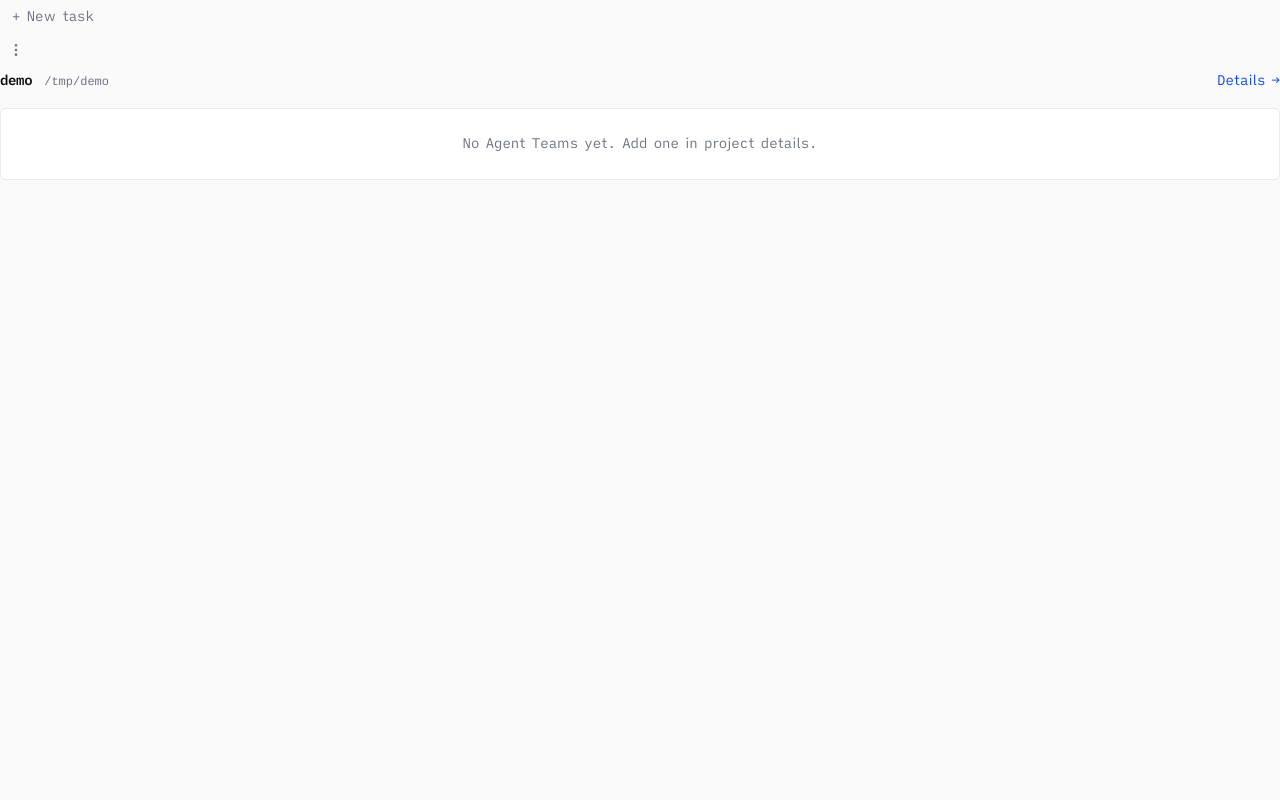
Dashboard layout › opens the kebab menu on click and exposes a "New project" menuitem that opens the CreateProject modal
Click the button named "More actions": [16, 50] box [0,34,32,66]
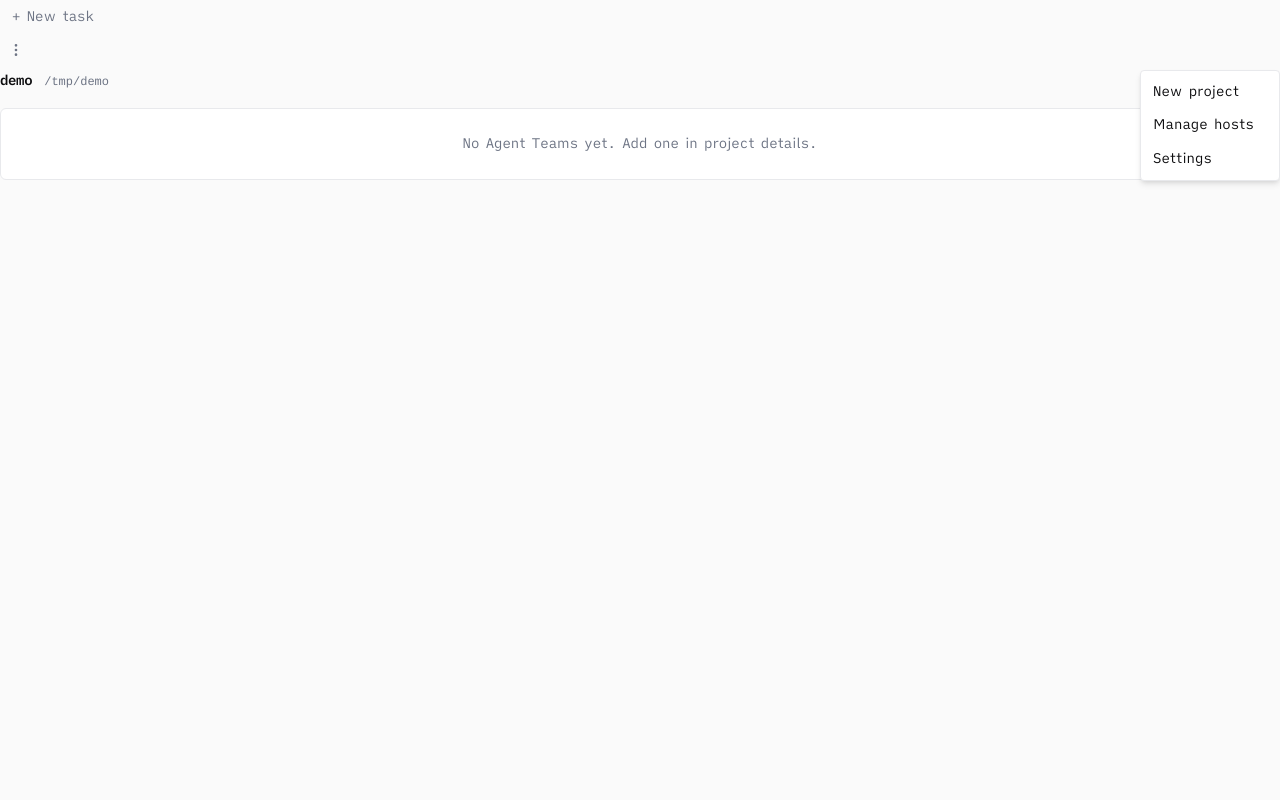
Click the menu item "New project": [1210, 92] box [1141,75,1279,108]
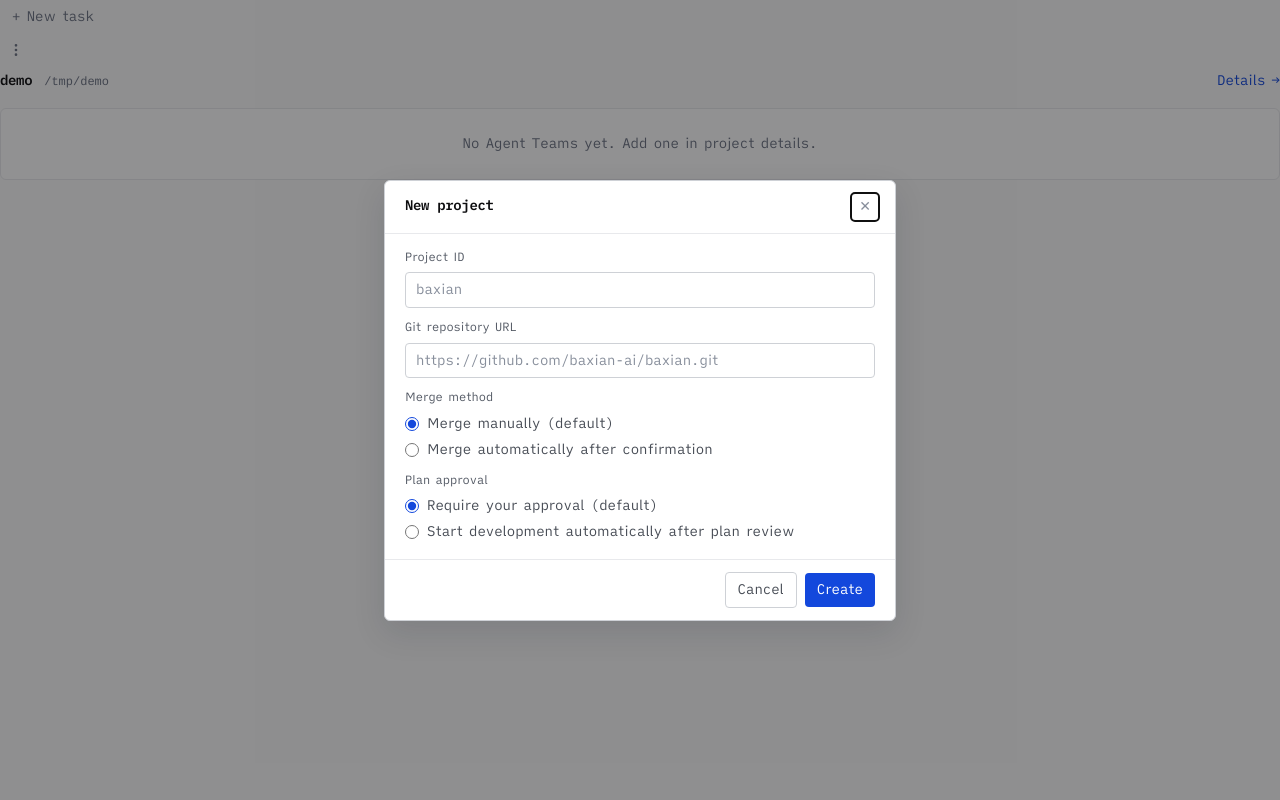
Expected: the dialog "New project" is shown, [384,180,896,620]
